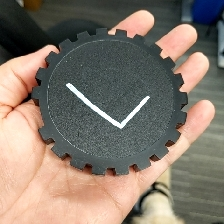gear: (30, 27, 189, 177)
missing: (30, 84, 55, 142)
